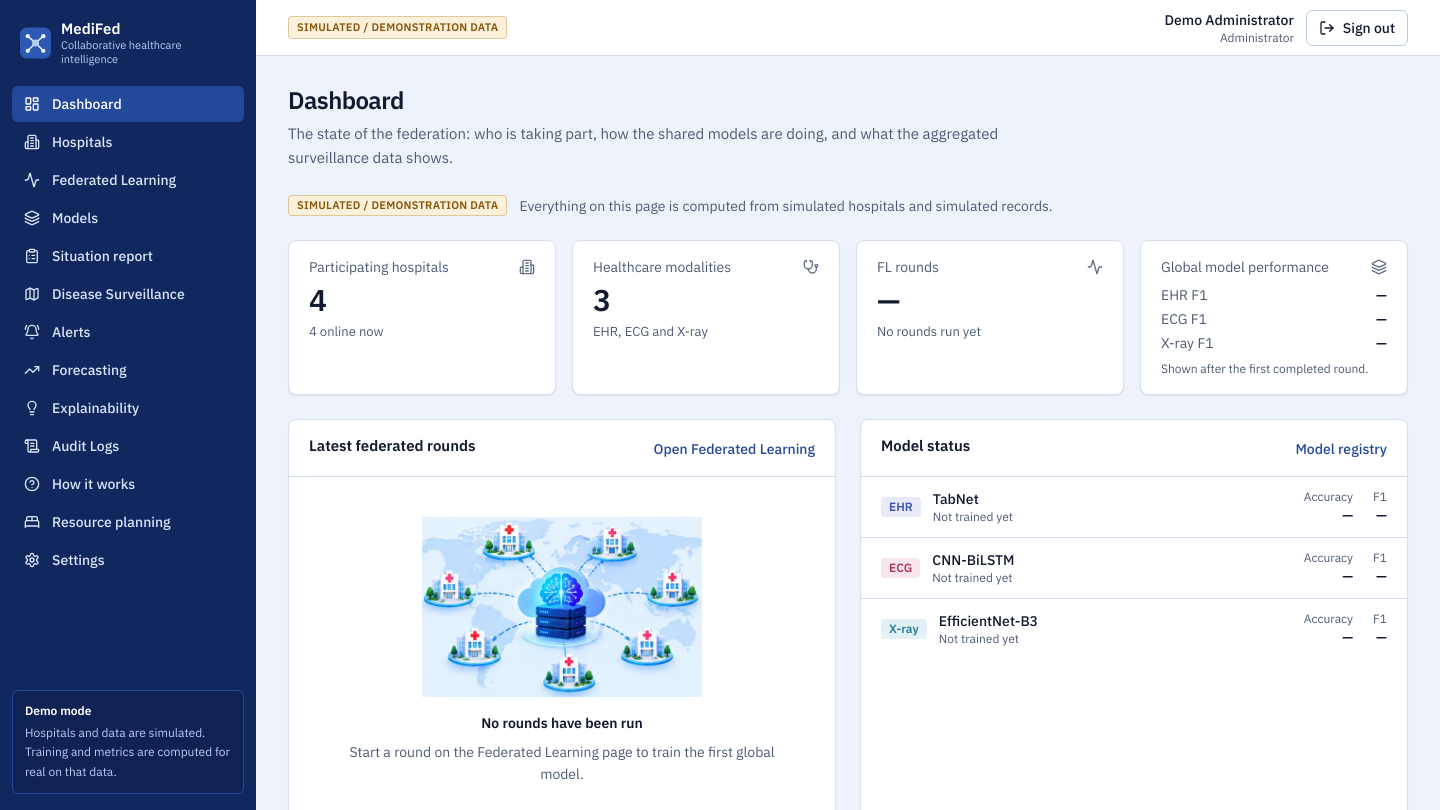
Test: routing and authentication › signs out
This screenshot has width=1440, height=810.
Click the button "Sign out".
click(1357, 28)  # box [1306,10,1408,46]
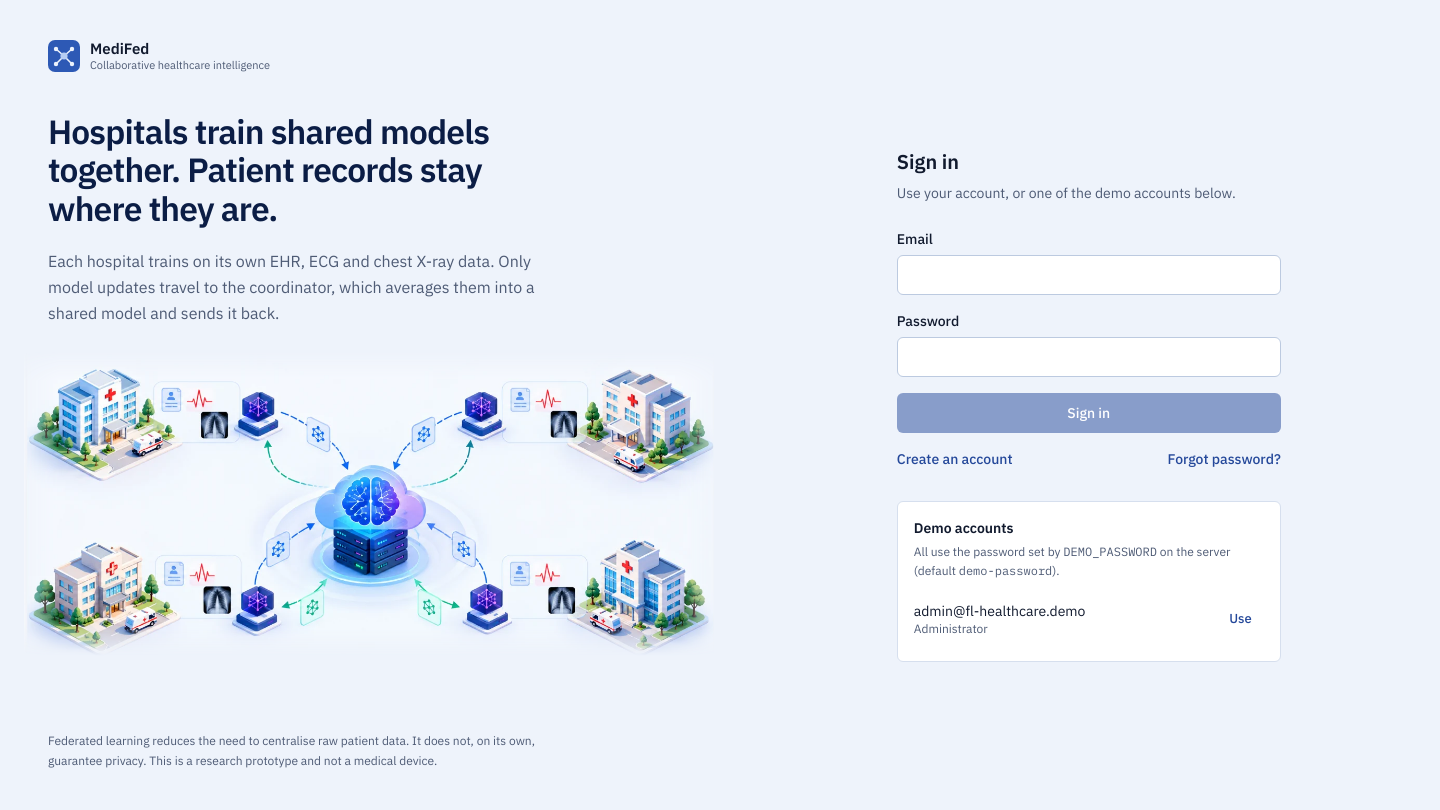
Now the heading "Sign in" is shown, box [897,148,959,175]
